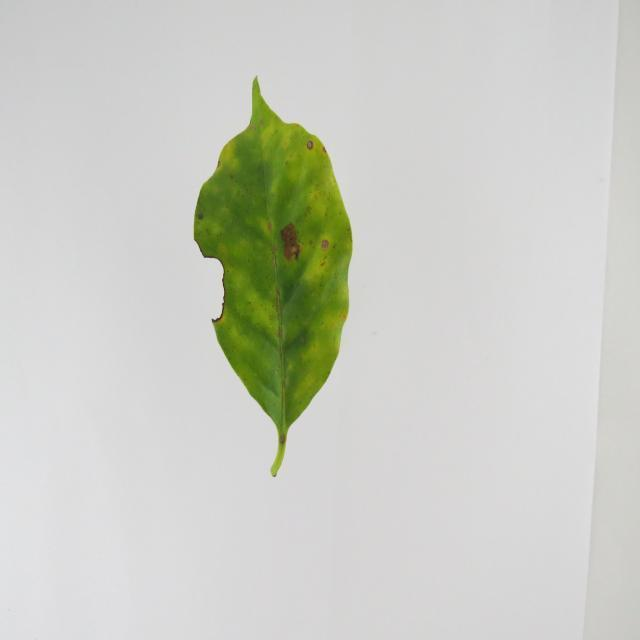DeficienciaNutricional-Boro: (194, 78, 352, 475)
